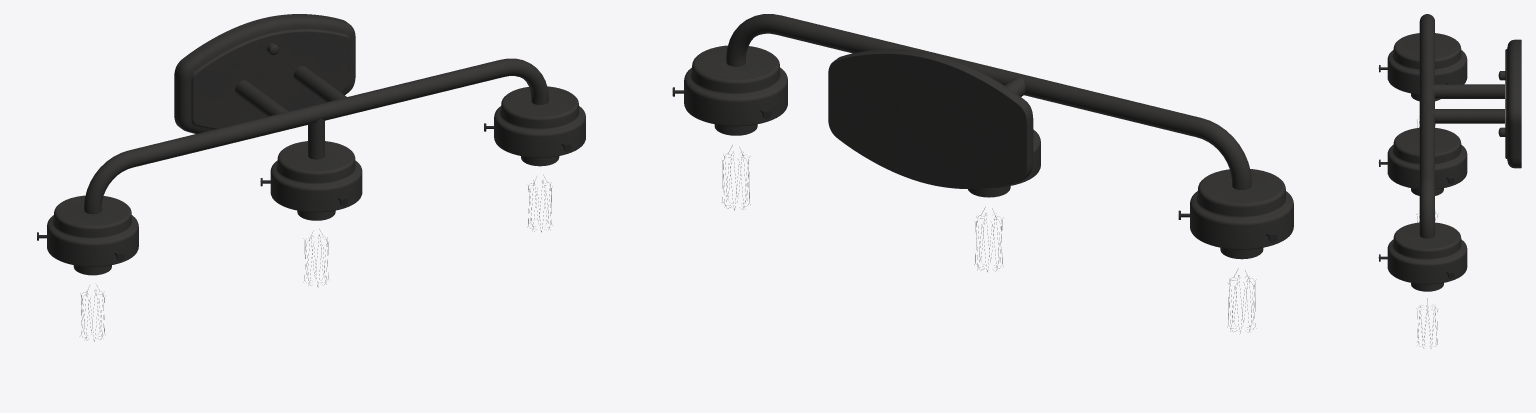
The model's file is lamp_B07B51FDT9.glb.
The picture shows the model from 3 angles, left to right: view 1: azimuth 30°, elevation 25°; view 2: azimuth 150°, elevation 25°; view 3: azimuth 270°, elevation 25°; orthographic projection. The views are drawn at different scales.
Parts seen in each view (by area): view 1: "$AFGLCNGJEHBAAAAAICBAAAAAAAAANPHJDJGH"; view 2: "$AFGLCNGJEHBAAAAAICBAAAAAAAAANPHJDJGH"; view 3: "$AFGLCNGJEHBAAAAAICBAAAAAAAAANPHJDJGH".
Boxes of the visible parts, x1,y1,x2,y2 form: "$AFGLCNGJEHBAAAAAICBAAAAAAAAANPHJDJGH": (37, 14, 585, 341); "$AFGLCNGJEHBAAAAAICBAAAAAAAAANPHJDJGH": (672, 14, 1293, 333); "$AFGLCNGJEHBAAAAAICBAAAAAAAAANPHJDJGH": (1378, 14, 1521, 348).
Bounding box in the file's own units: 0.6376 × 0.2921 × 0.1773.
1 material, 1 textured.
